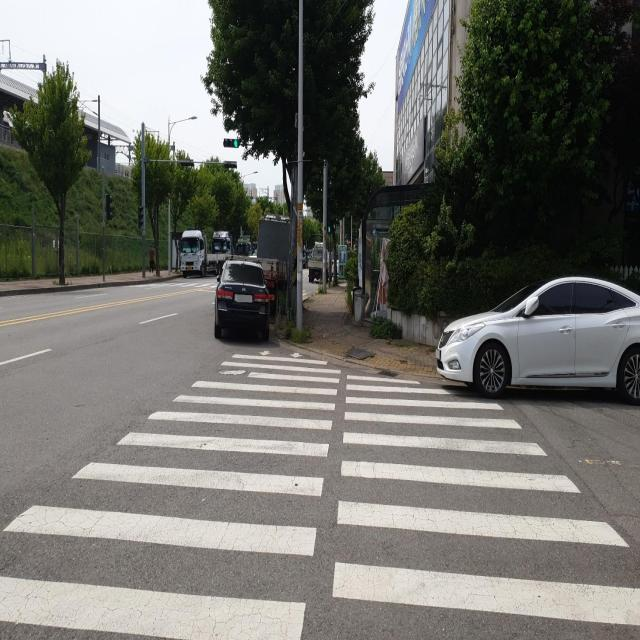횡단보도: (0, 346, 640, 639)
